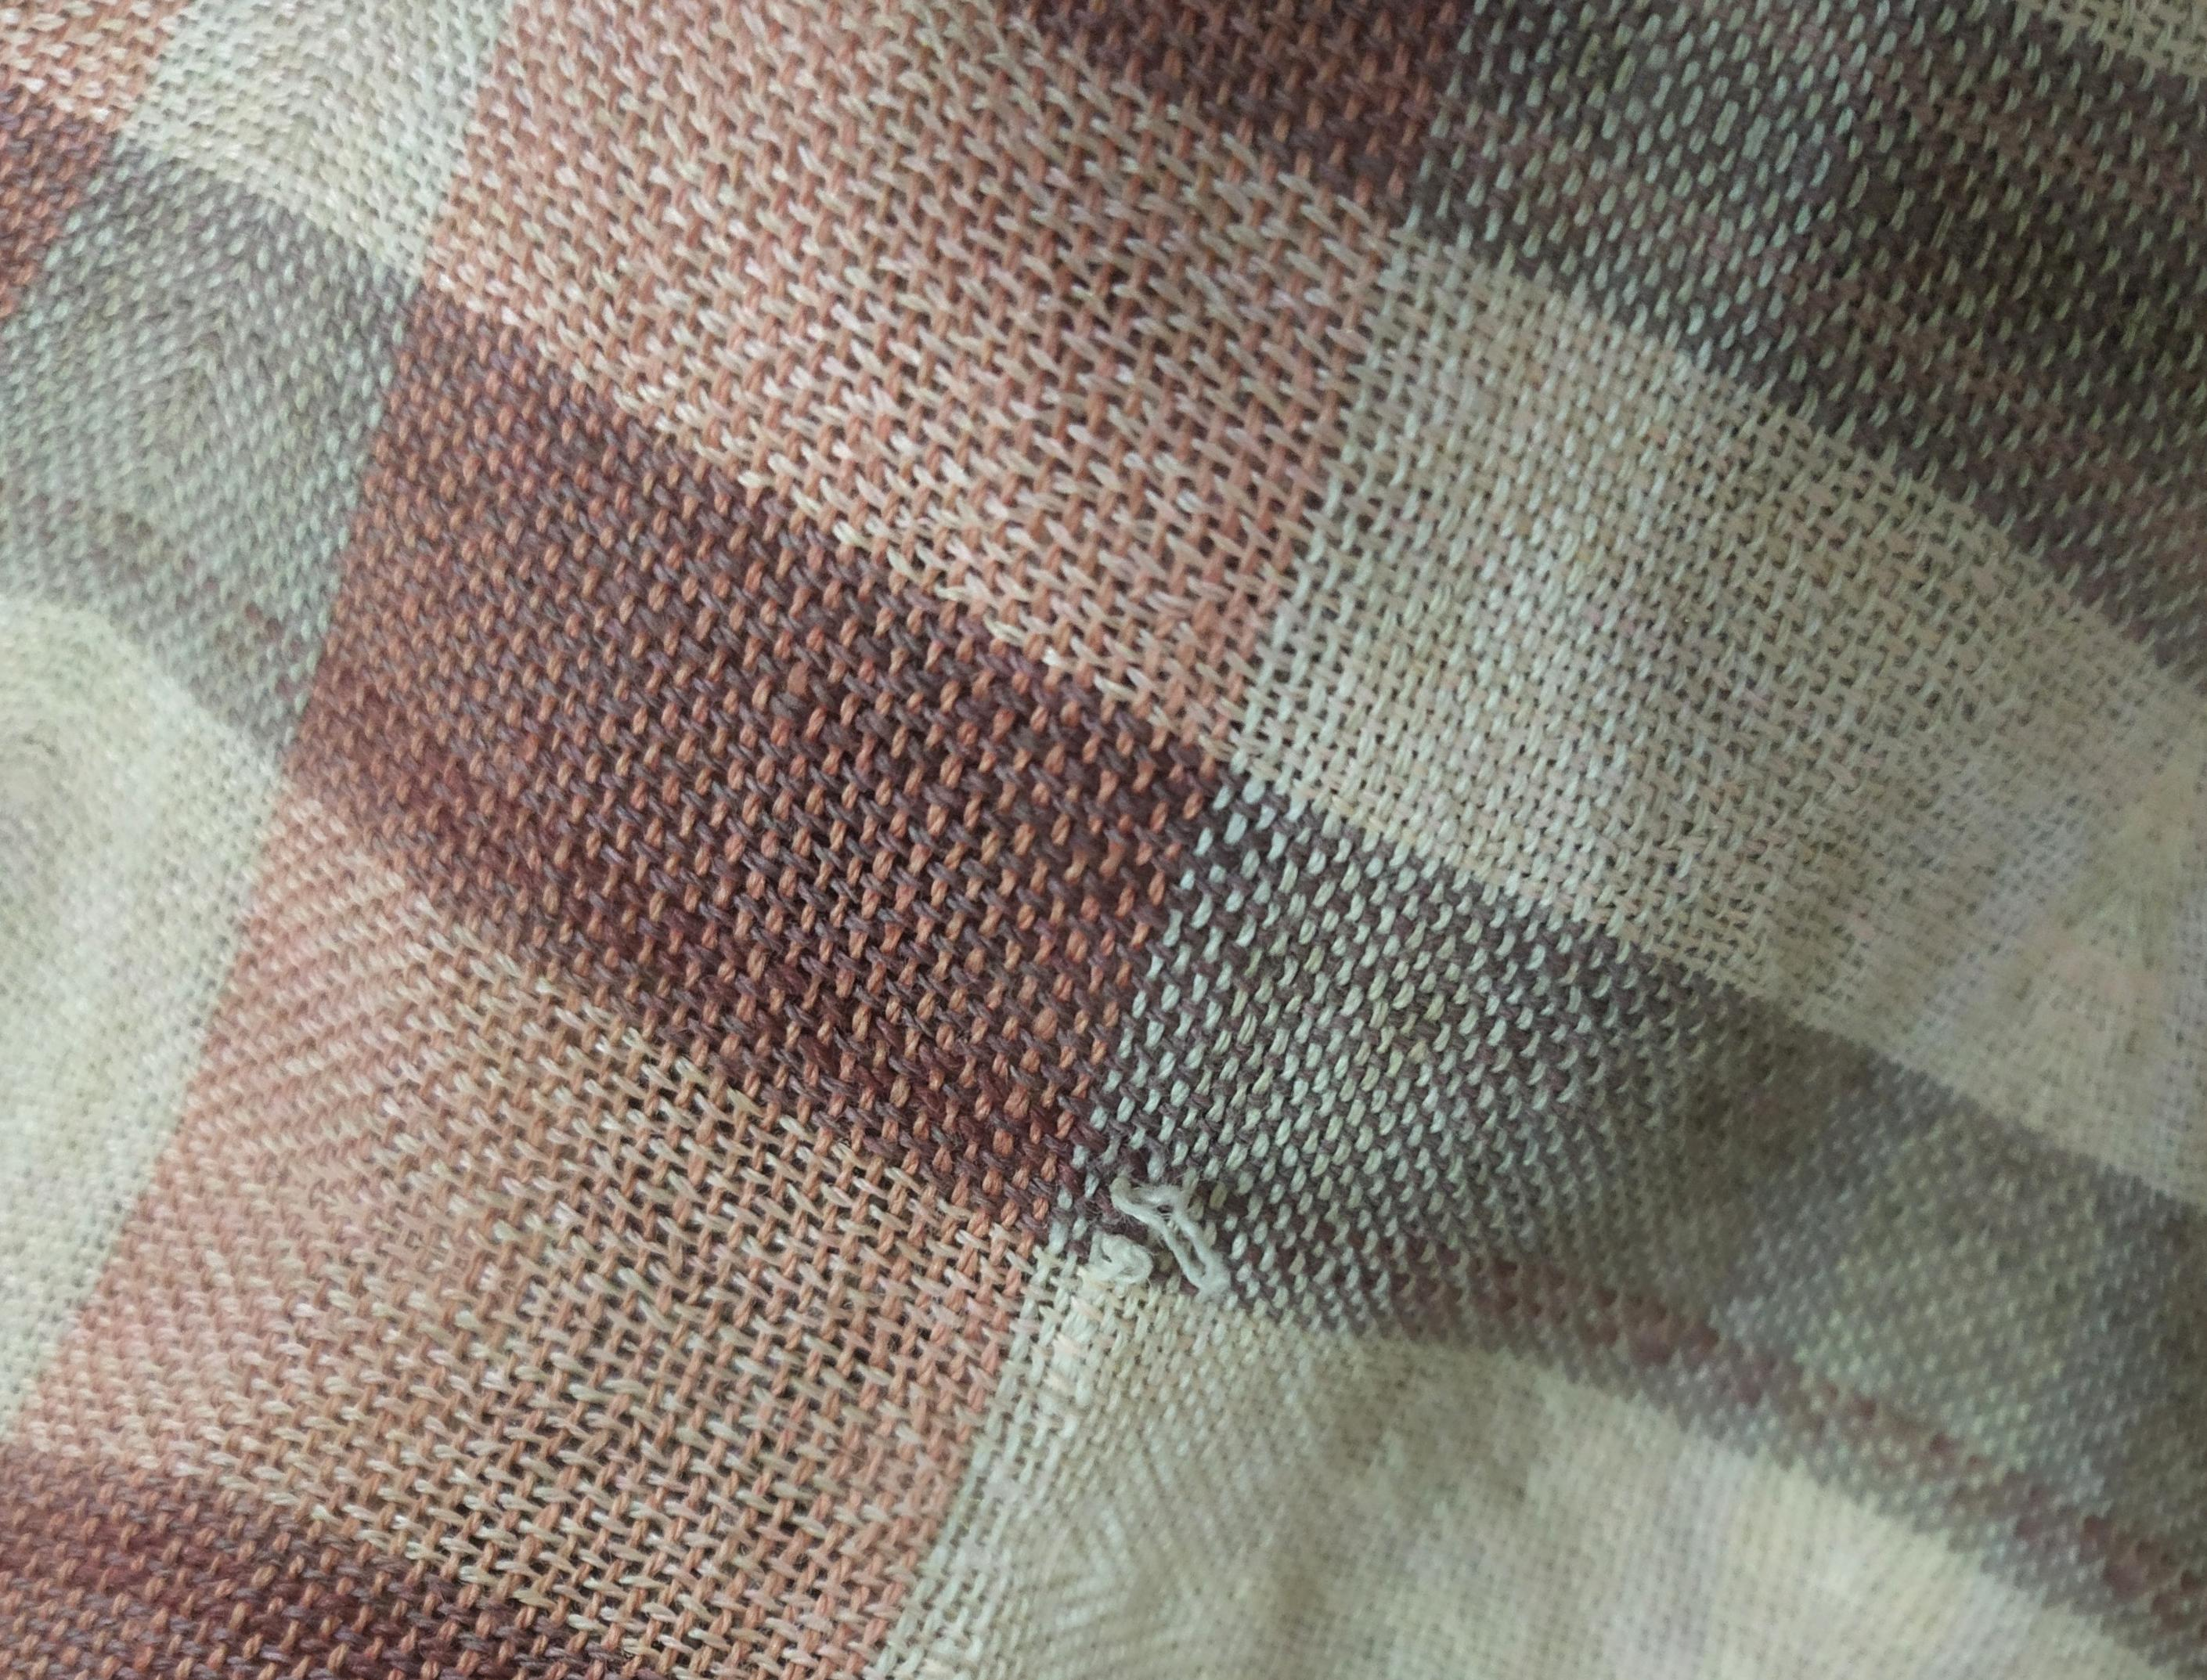snag: (1059, 1129, 1272, 1389)
